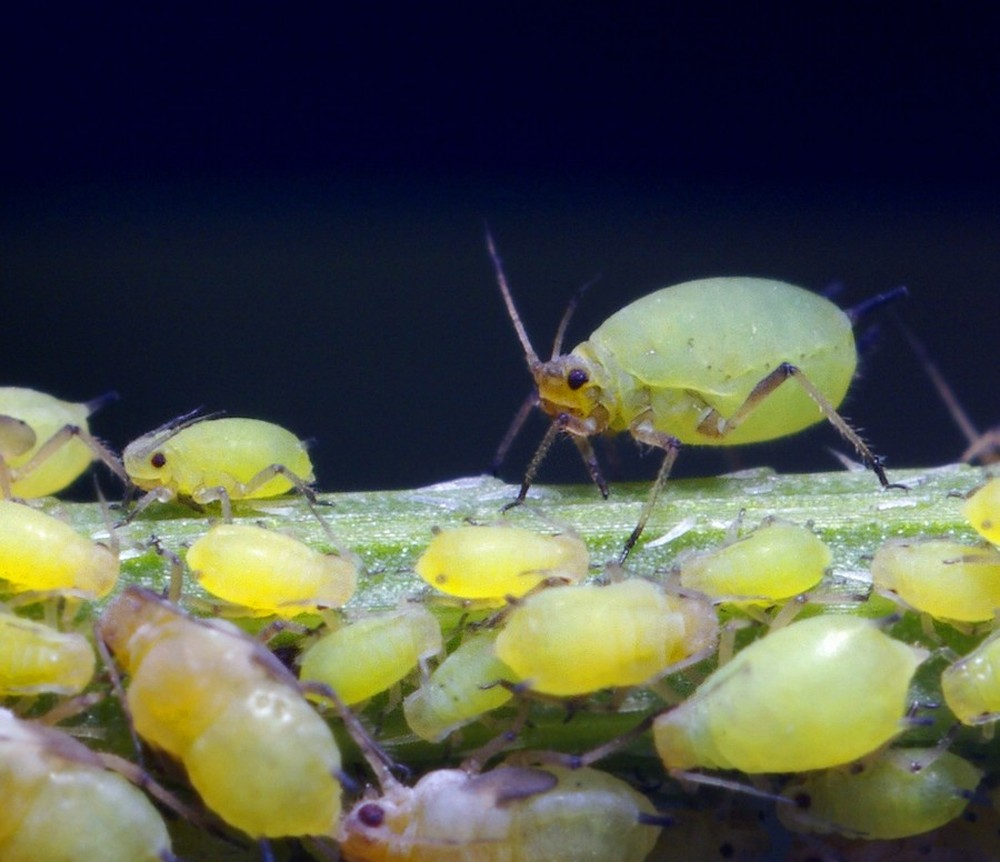Pulgon: (477, 239, 918, 513), (83, 570, 378, 852), (337, 720, 704, 862), (661, 605, 934, 779), (501, 571, 744, 707), (112, 389, 330, 533), (752, 732, 997, 857), (170, 509, 371, 628), (297, 589, 481, 708), (411, 491, 604, 602), (2, 483, 147, 630), (675, 506, 842, 611), (406, 613, 546, 738), (854, 516, 1000, 622), (1, 616, 124, 730)
